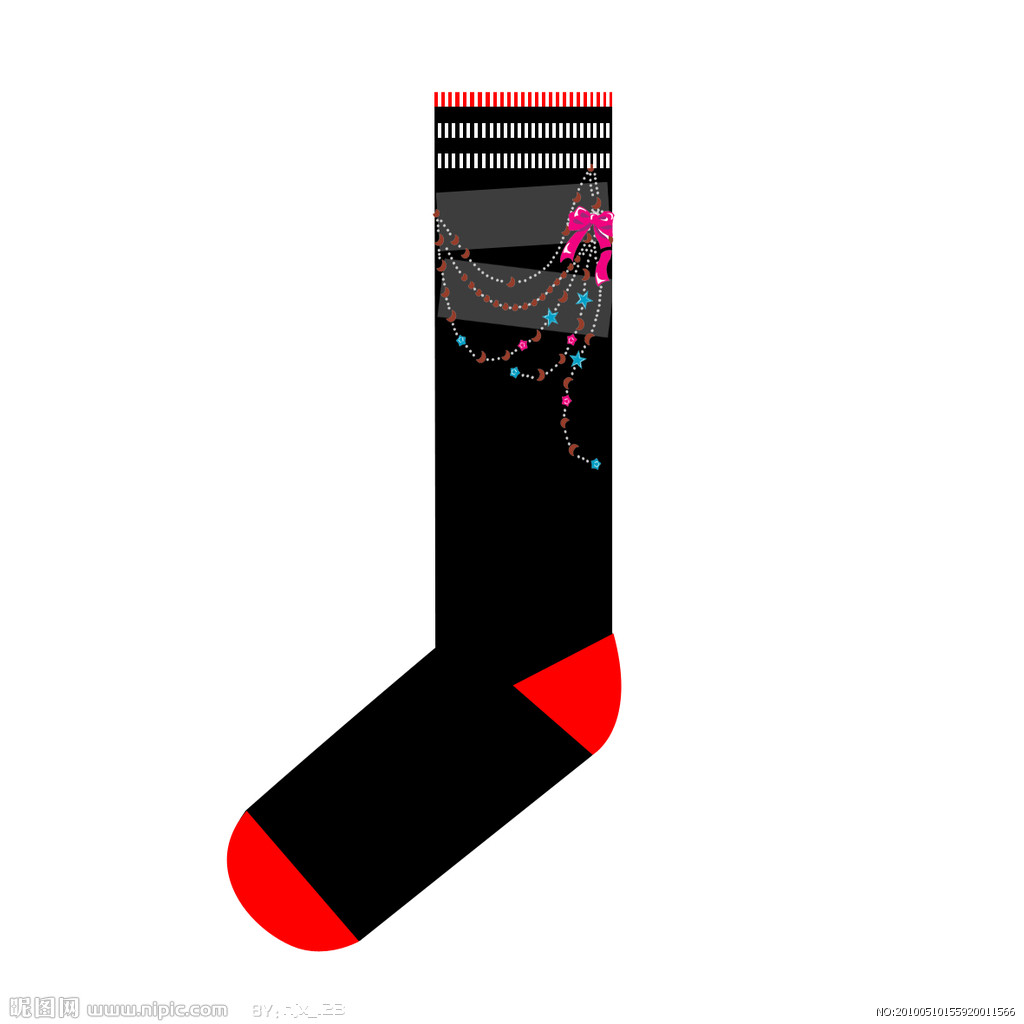flexible: (217, 86, 622, 954)
